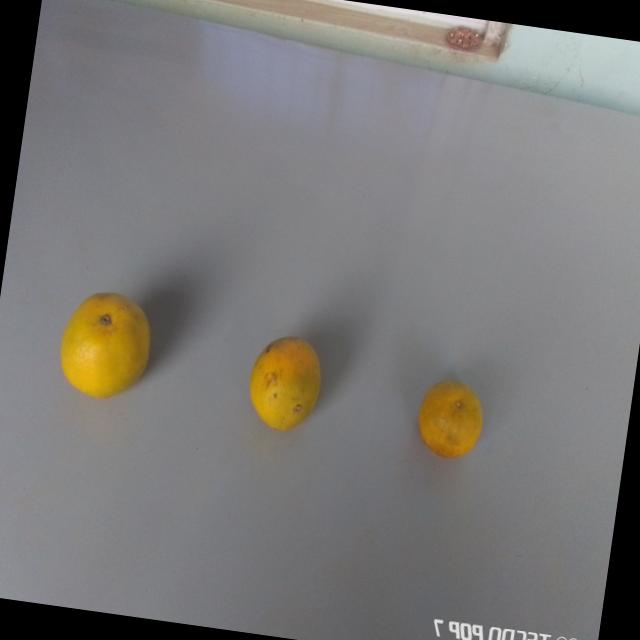Ripe orange: (48, 279, 165, 412), (230, 322, 336, 444), (408, 378, 492, 464)
